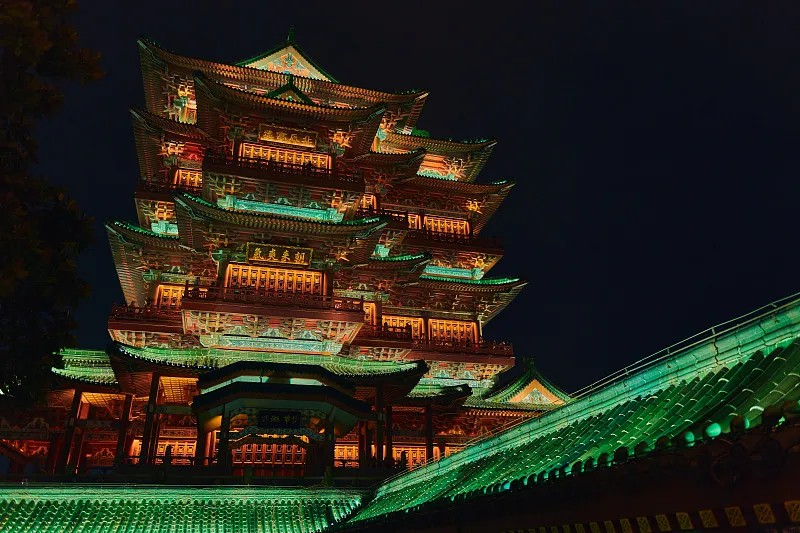Teng: (50, 29, 575, 477)
